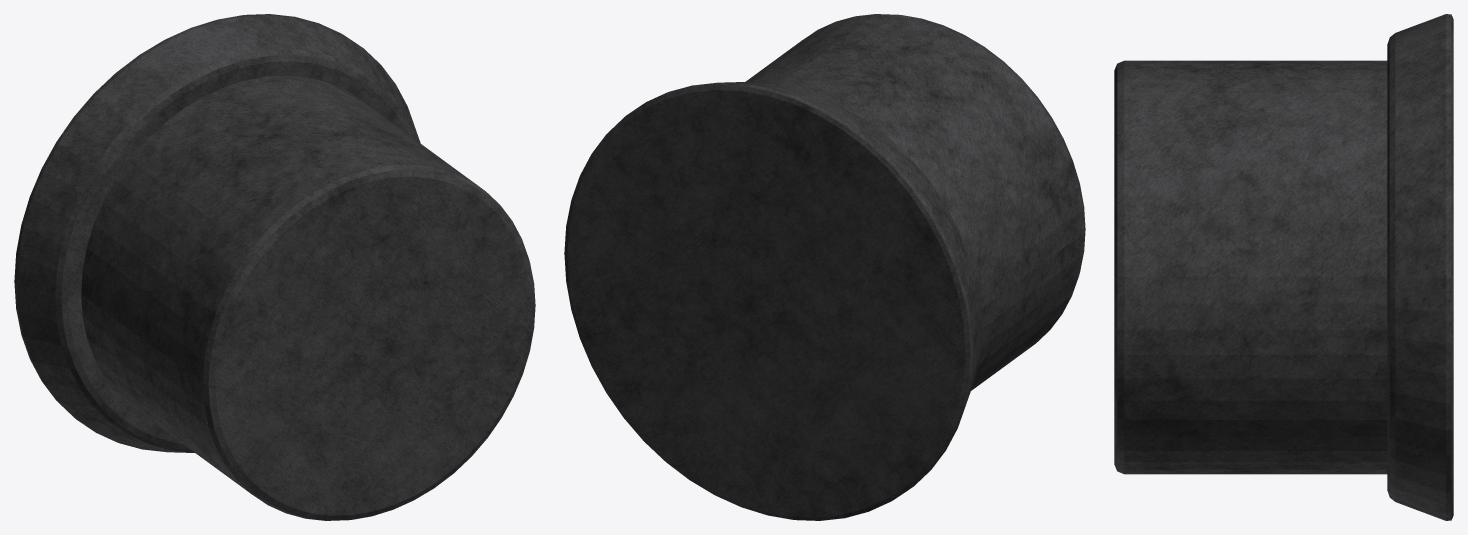
File: button_housing_vis.obj
3 renders of one model, left to right at view 1: azimuth 30°, elevation 25°; view 2: azimuth 150°, elevation 25°; view 3: azimuth 270°, elevation 25°, orthographic. The views are drawn at different scales.
Size of the model in its own units: 0.0613 by 0.0613 by 0.041.
Materials: 1 (1 with a texture image).
